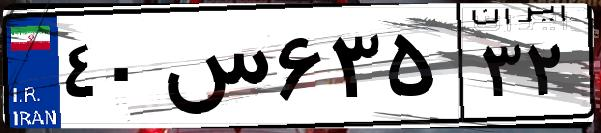0: (110, 28, 158, 98)
2: (525, 38, 570, 115)
3: (330, 28, 385, 110), (475, 38, 525, 113)
4: (57, 26, 110, 100)
5: (385, 28, 445, 110)
6: (270, 28, 330, 110)
س: (158, 20, 270, 120)
